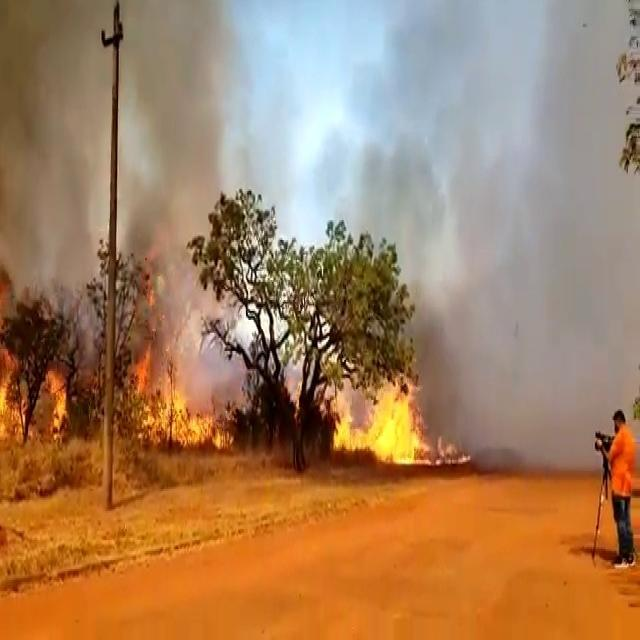Fire: (2, 352, 216, 453), (332, 366, 436, 474)
Smoke: (418, 62, 640, 458), (0, 0, 210, 350), (603, 404, 640, 510)
